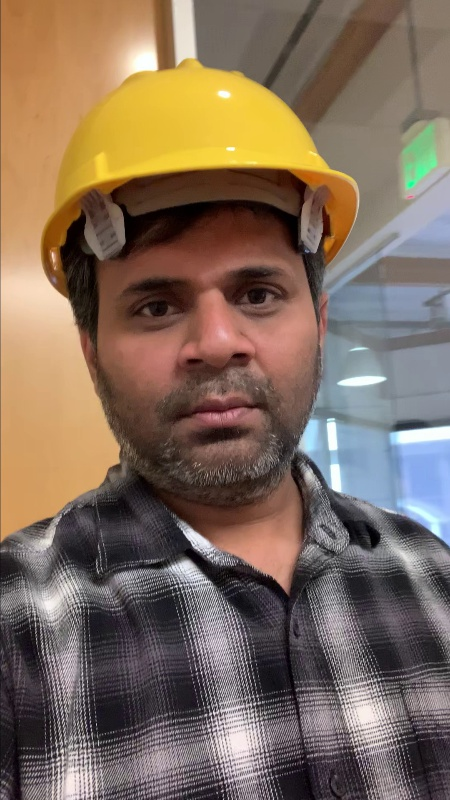helmet: (50, 52, 349, 175)
